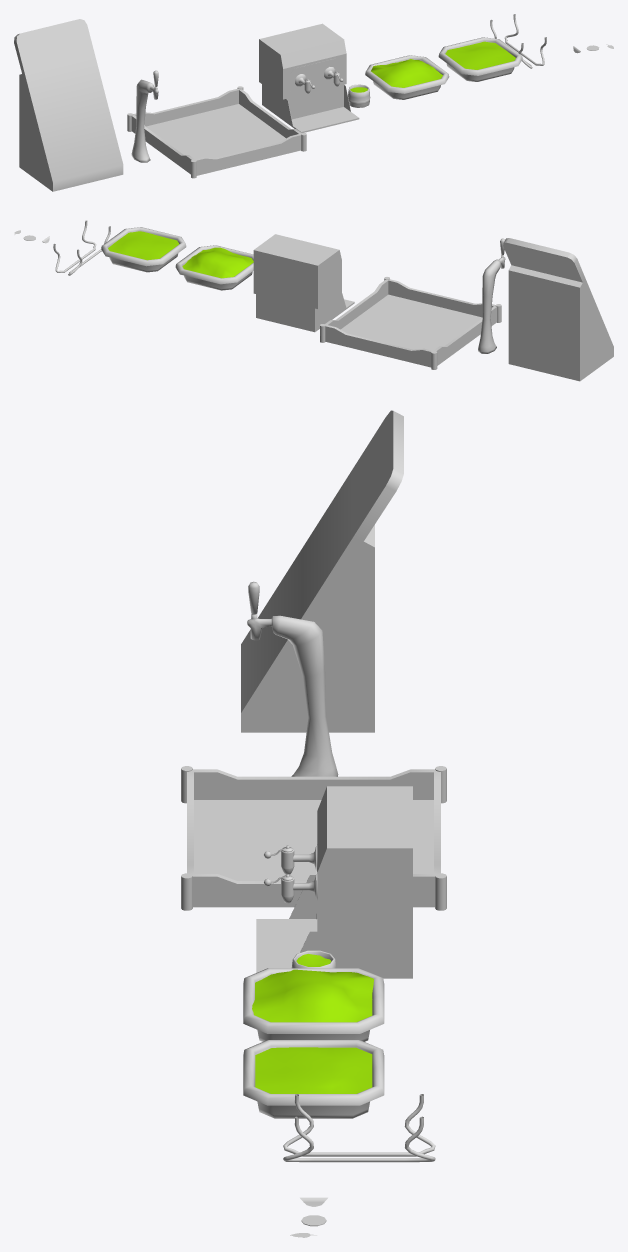
The model's file is Bottle Extras.fbx.
3 renders of one model, top to bottom at view 1: azimuth 30°, elevation 25°; view 2: azimuth 150°, elevation 25°; view 3: azimuth 270°, elevation 25°, orthographic. The views are drawn at different scales.
Parts seen in each view (by area): view 1: Plane.003, Glass Rack, Soda Tap, Sink, Container.001, Beer Tap, Garnish, Wine Rack Mid; view 2: Plane.003, Glass Rack, Soda Tap, Sink, Container.001, Beer Tap, Wine Rack Mid; view 3: Plane.003, Glass Rack, Soda Tap, Sink, Container.001, Beer Tap, Wine Rack Mid.
Part boxes in pixels (x1=…): Plane.003: x1=14, y1=19, x2=123, y2=191; Glass Rack: x1=127, y1=86, x2=306, y2=178; Soda Tap: x1=259, y1=23, x2=359, y2=132; Sink: x1=438, y1=37, x2=522, y2=81; Container.001: x1=365, y1=55, x2=449, y2=99; Beer Tap: x1=131, y1=70, x2=158, y2=162; Garnish: x1=348, y1=84, x2=370, y2=107; Wine Rack Mid: x1=490, y1=14, x2=546, y2=68; Plane.003: x1=503, y1=238, x2=613, y2=381; Glass Rack: x1=320, y1=277, x2=501, y2=369; Soda Tap: x1=253, y1=234, x2=354, y2=332; Sink: x1=101, y1=227, x2=186, y2=272; Container.001: x1=175, y1=245, x2=253, y2=290; Beer Tap: x1=478, y1=238, x2=505, y2=353; Wine Rack Mid: x1=53, y1=220, x2=110, y2=275; Plane.003: x1=241, y1=410, x2=403, y2=732; Glass Rack: x1=181, y1=766, x2=446, y2=910; Soda Tap: x1=256, y1=786, x2=412, y2=978; Sink: x1=243, y1=1040, x2=384, y2=1118; Container.001: x1=243, y1=968, x2=384, y2=1041; Beer Tap: x1=247, y1=581, x2=338, y2=776; Wine Rack Mid: x1=283, y1=1094, x2=435, y2=1162.
Size of the model in its own units: 259 by 51.85 by 58.37.
